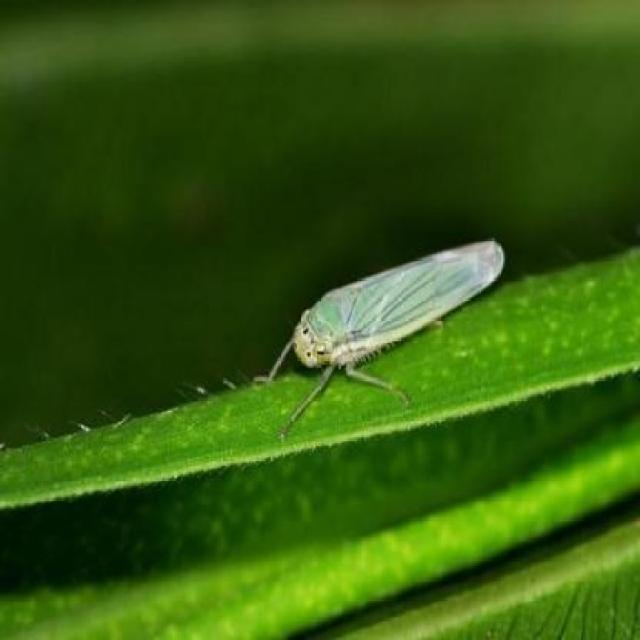green-leafhopper: (272, 236, 510, 429)
